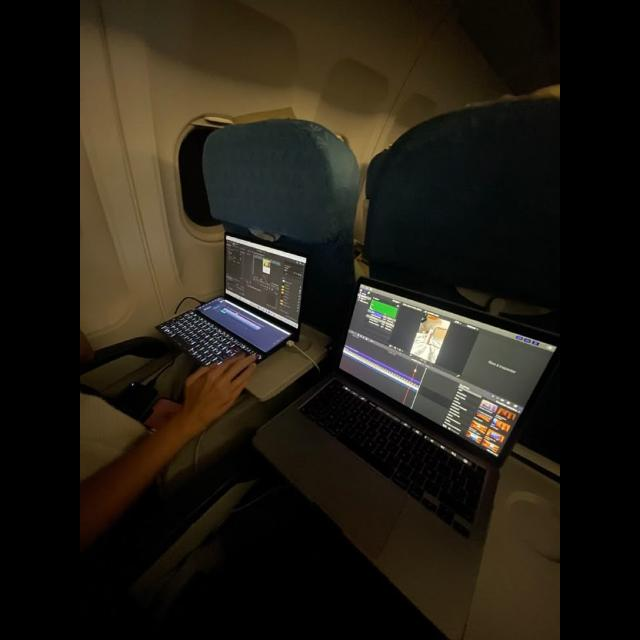laptop: (294, 277, 530, 607), (189, 236, 311, 350)
